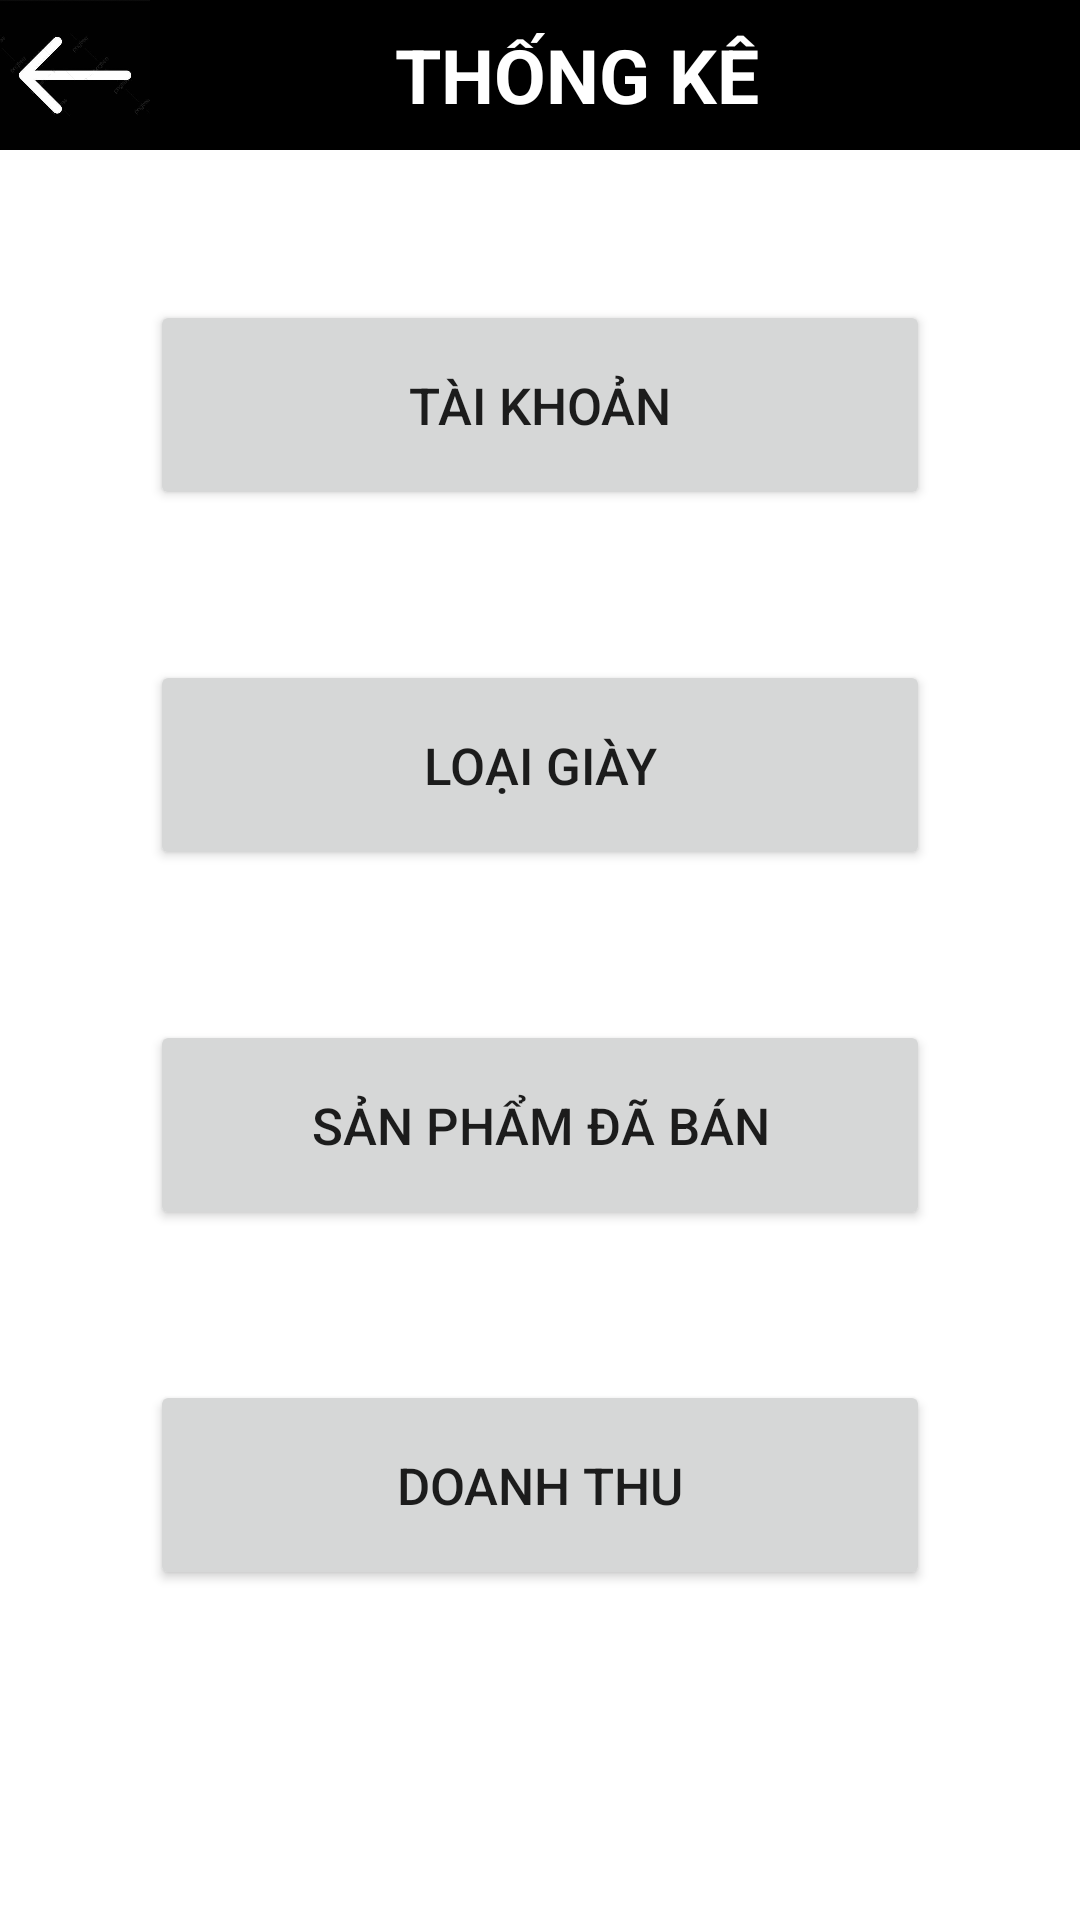

Icon click points for this 1080 x 1920 phone screenshot, format (x,y):
muiten: (75,75)
